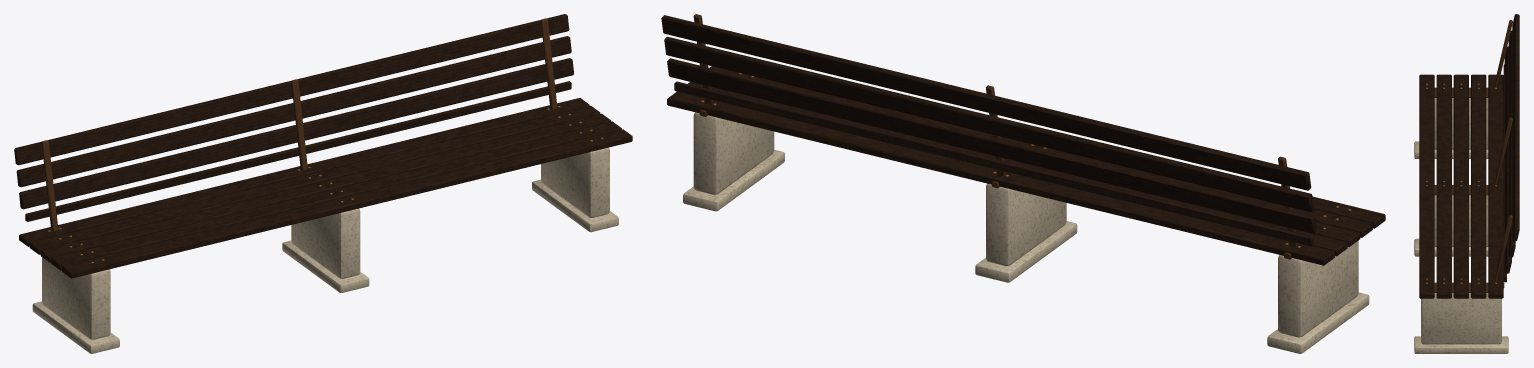
File: bench-long.lod0.glb
3 renders of one model, left to right at view 1: azimuth 30°, elevation 25°; view 2: azimuth 150°, elevation 25°; view 3: azimuth 270°, elevation 25°, orthographic. The views are drawn at different scales.
Visible parts, largest first — view 1: bench_long_Timber • oiled walnut, bench_long_Stone • warm limestone, bench_long_Trim • places palette; view 2: bench_long_Timber • oiled walnut, bench_long_Stone • warm limestone, bench_long_Trim • places palette; view 3: bench_long_Timber • oiled walnut, bench_long_Stone • warm limestone, bench_long_Trim • places palette.
Part boxes in pixels (<box>): bench_long_Timber • oiled walnut: <box>14,14,632,278</box>; bench_long_Stone • warm limestone: <box>32,147,618,353</box>; bench_long_Trim • places palette: <box>41,18,603,263</box>; bench_long_Timber • oiled walnut: <box>661,15,1385,265</box>; bench_long_Stone • warm limestone: <box>683,112,1369,353</box>; bench_long_Trim • places palette: <box>693,14,1351,259</box>; bench_long_Timber • oiled walnut: <box>1419,14,1519,298</box>; bench_long_Stone • warm limestone: <box>1414,98,1508,353</box>; bench_long_Trim • places palette: <box>1426,20,1512,292</box>.
Size of the model in its own units: 3.2 by 0.9056 by 0.6483.
Materials: 3 (3 with a texture image).
